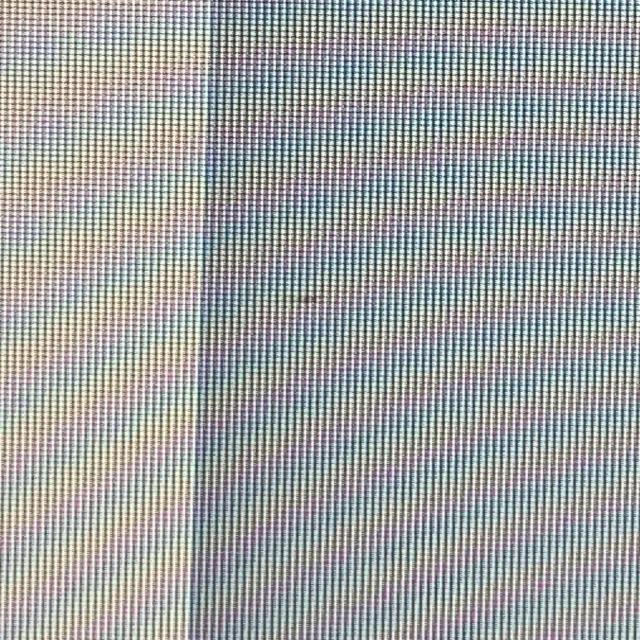Dead pixel: (300, 295, 320, 304)
